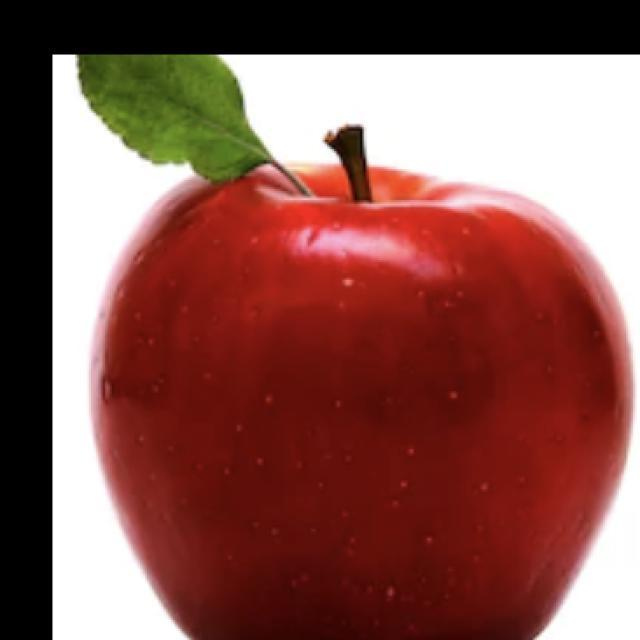Apple: (87, 123, 634, 639)
